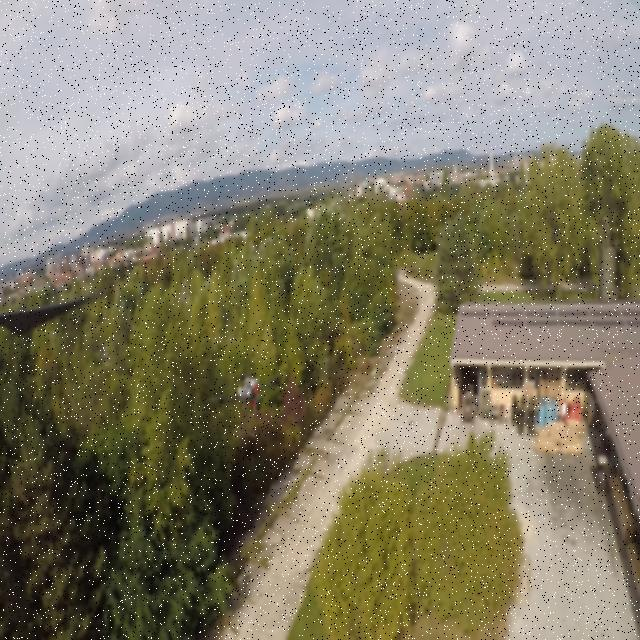UAV: (206, 368, 282, 440)
